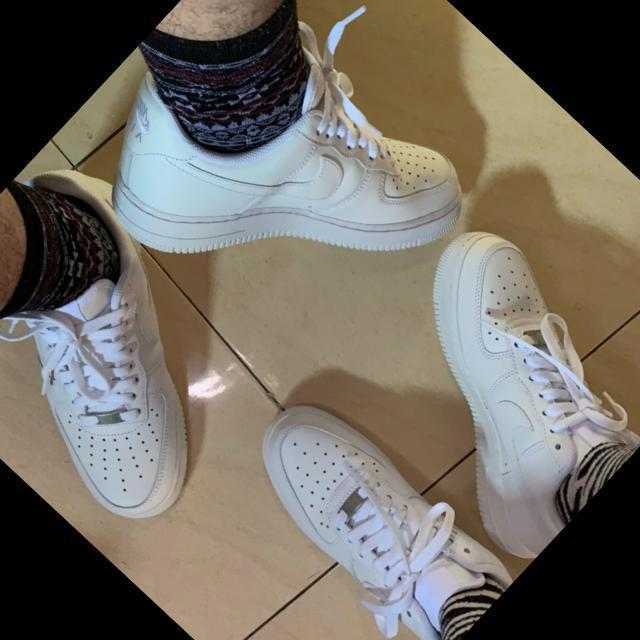nike original air force: (40, 0, 498, 404), (310, 206, 640, 572), (0, 156, 289, 539), (223, 377, 518, 640)
